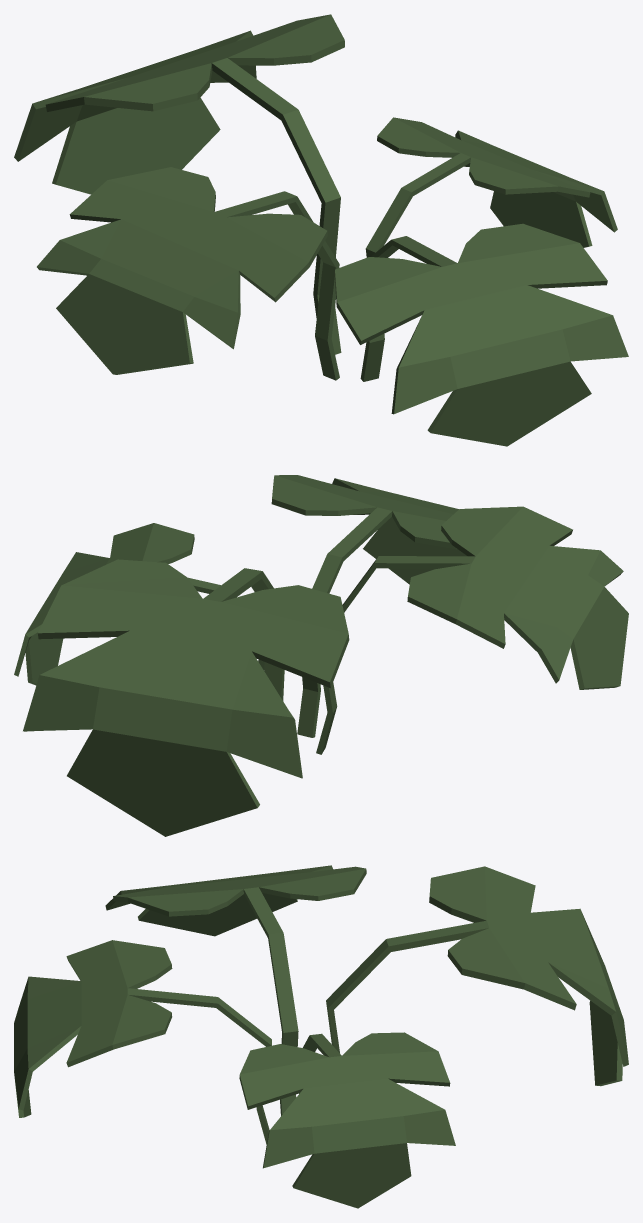
The model's file is Plant_4-transformed.glb.
The picture shows the model from 3 angles, top to bottom: view 1: azimuth 30°, elevation 25°; view 2: azimuth 150°, elevation 25°; view 3: azimuth 270°, elevation 25°; orthographic projection. The views are drawn at different scales.
Visible parts, largest first — view 1: Plant_4; view 2: Plant_4; view 3: Plant_4.
Boxes of the visible parts, bbox=[...] form: Plant_4: bbox=[14, 14, 628, 446]; Plant_4: bbox=[14, 475, 628, 836]; Plant_4: bbox=[14, 865, 628, 1208].
Size of the model in its own units: 1.91 by 0.8109 by 2.12.
